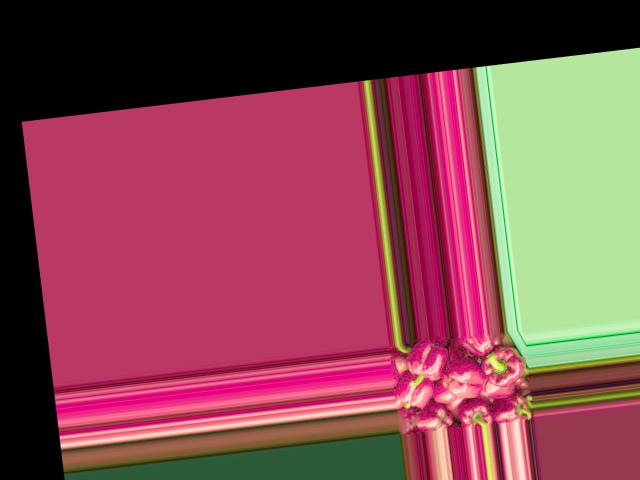bell_pepper: (492, 393, 532, 423)
